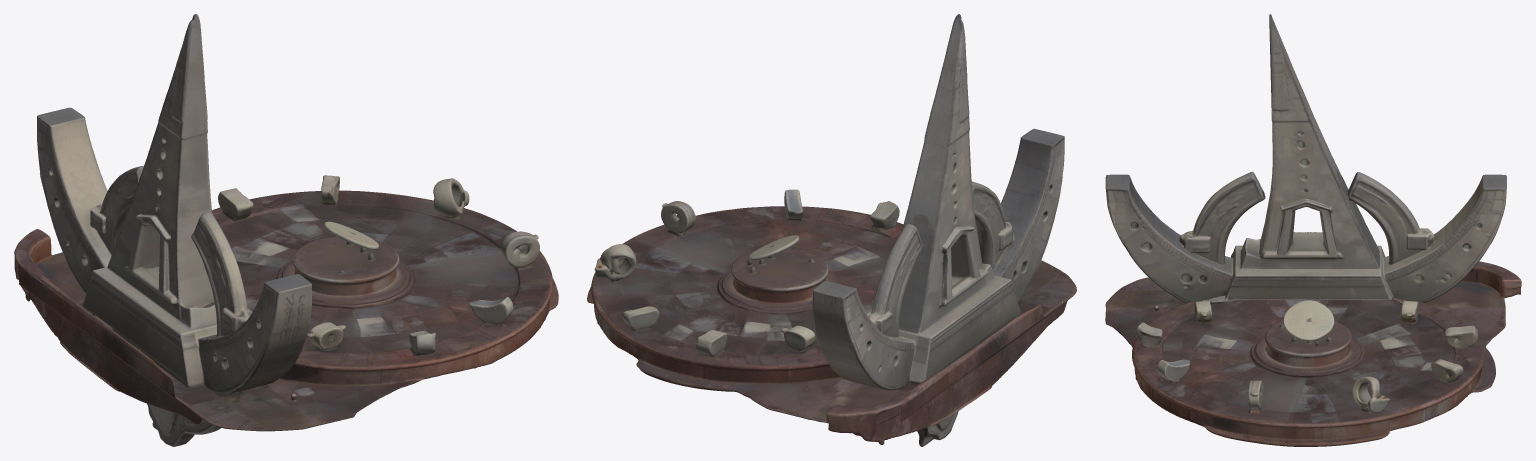
File: jantar_mantar.glb
3 renders of one model, left to right at view 1: azimuth 30°, elevation 25°; view 2: azimuth 150°, elevation 25°; view 3: azimuth 270°, elevation 25°, orthographic. The views are drawn at different scales.
Parts seen in each view (by area): view 1: tripo_node_28267adc-adca-4dcc-8e5c-8ce87e484996; view 2: tripo_node_28267adc-adca-4dcc-8e5c-8ce87e484996; view 3: tripo_node_28267adc-adca-4dcc-8e5c-8ce87e484996.
Part boxes in pixels (x1,y1,x2,y2): tripo_node_28267adc-adca-4dcc-8e5c-8ce87e484996: [14, 14, 558, 446]; tripo_node_28267adc-adca-4dcc-8e5c-8ce87e484996: [587, 14, 1076, 446]; tripo_node_28267adc-adca-4dcc-8e5c-8ce87e484996: [1105, 14, 1521, 446].
Bounding box in the file's own units: 0.9571 × 0.9791 × 1.
Materials: 1 (1 with a texture image).
